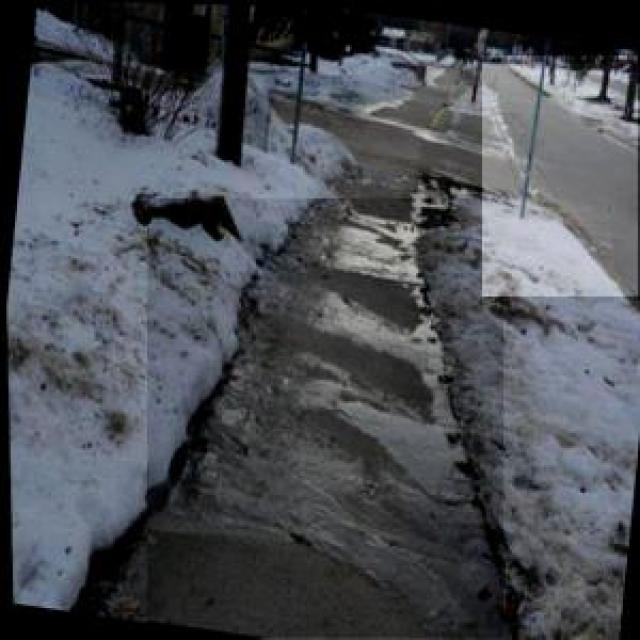clear-road: (483, 55, 640, 297)
ice-road: (148, 200, 503, 638)
